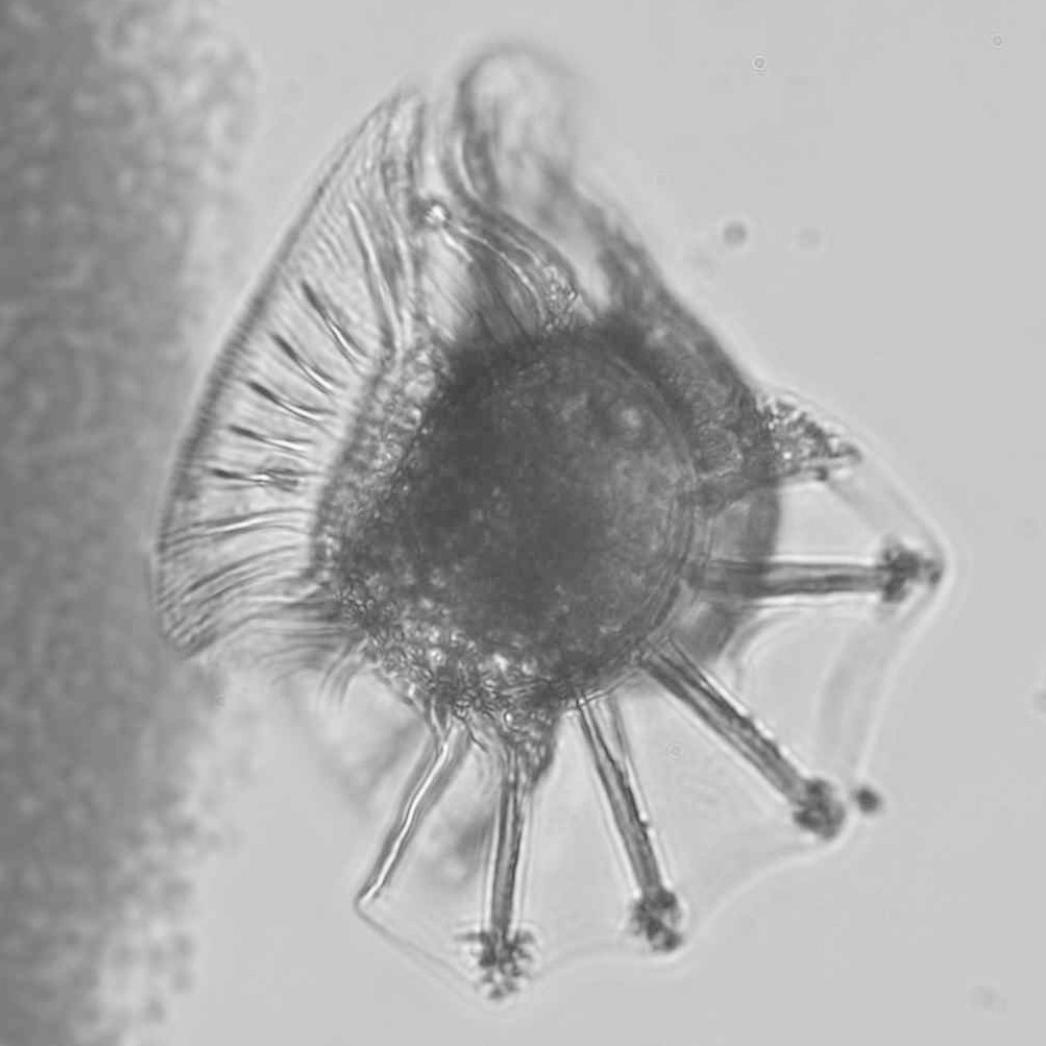ornithocercus_thumii: (152, 48, 947, 1007)
